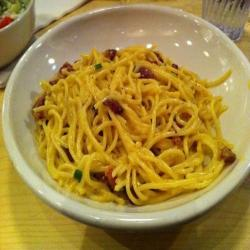carbonara: (26, 45, 243, 210)
